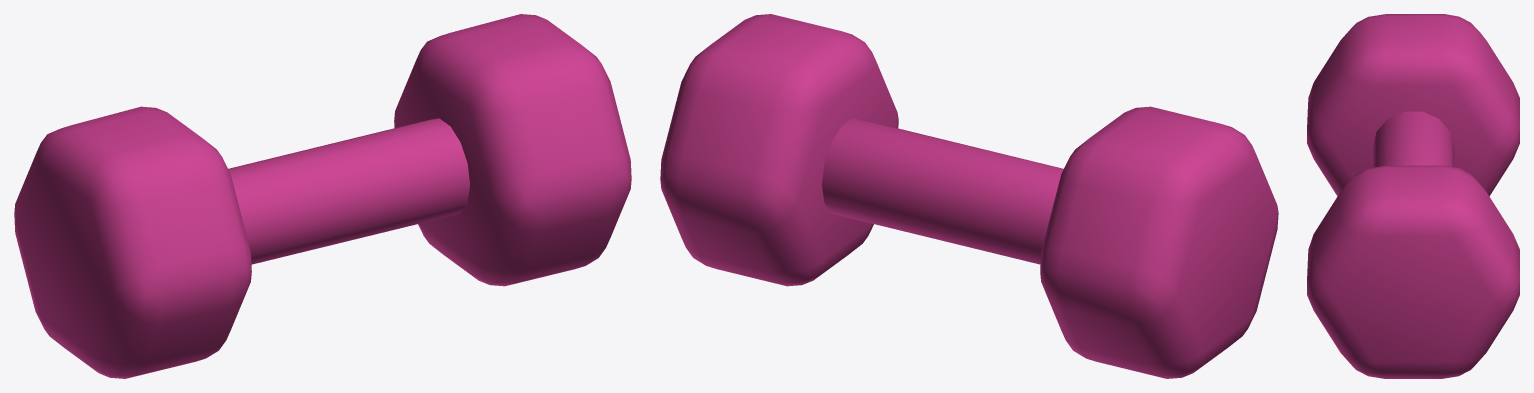
File: halter_pequeno_magenta.glb
3 views of the same model, side by side, from view 1: azimuth 30°, elevation 25°; view 2: azimuth 150°, elevation 25°; view 3: azimuth 270°, elevation 25° (orthographic). The views are drawn at different scales.
Parts seen in each view (by area): view 1: halter_pequeno_magenta; view 2: halter_pequeno_magenta; view 3: halter_pequeno_magenta.
Part boxes in pixels (x1,y1,x2,y2): halter_pequeno_magenta: (14, 14, 631, 378); halter_pequeno_magenta: (660, 14, 1278, 378); halter_pequeno_magenta: (1307, 14, 1519, 378).
Size of the model in its own units: 0.19 by 0.0779 by 0.0831.
1 material, 1 textured.
